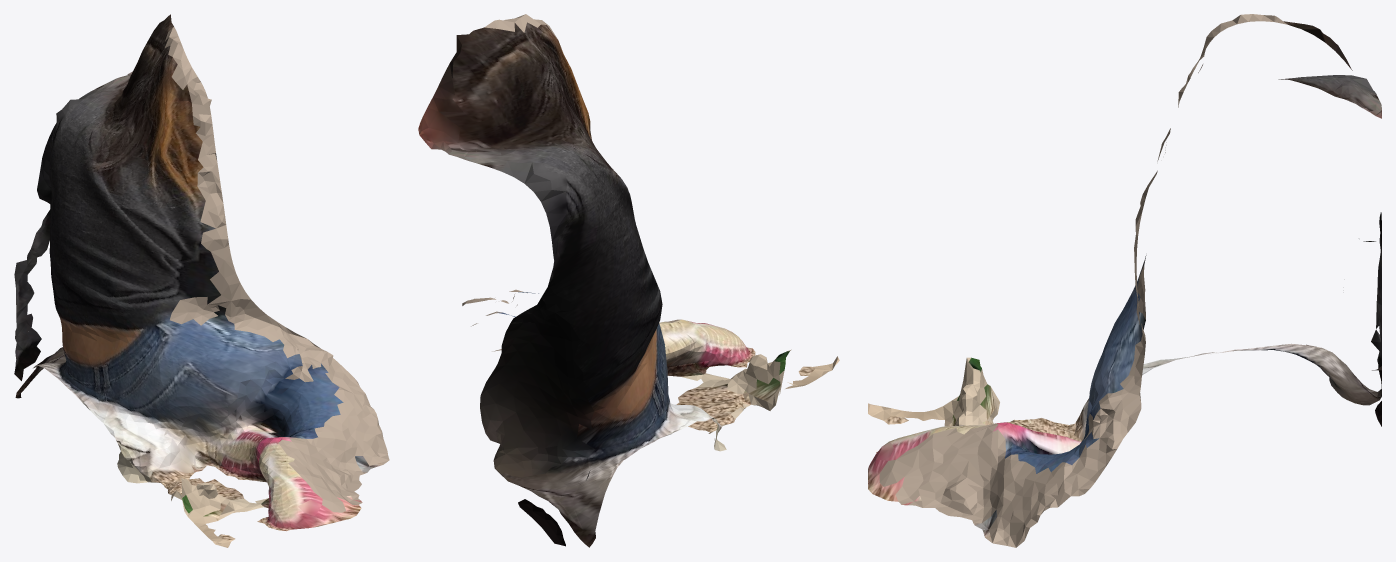
The picture shows the model from 3 angles, left to right: view 1: azimuth 30°, elevation 25°; view 2: azimuth 150°, elevation 25°; view 3: azimuth 270°, elevation 25°; orthographic projection. The views are drawn at different scales.
Size of the model in its own units: 0.5151 by 0.8138 by 0.815.
1 material, 1 textured.
